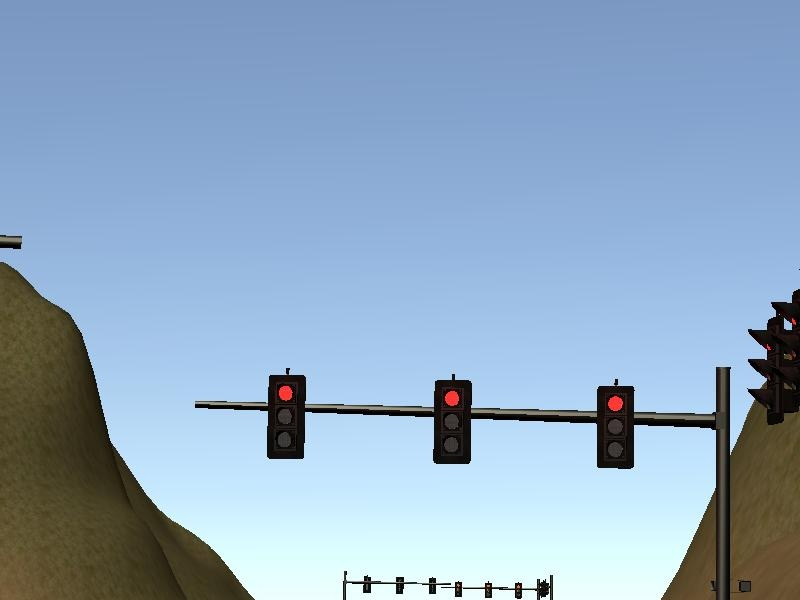red: (267, 372, 307, 457), (595, 382, 633, 468), (433, 381, 471, 465)
